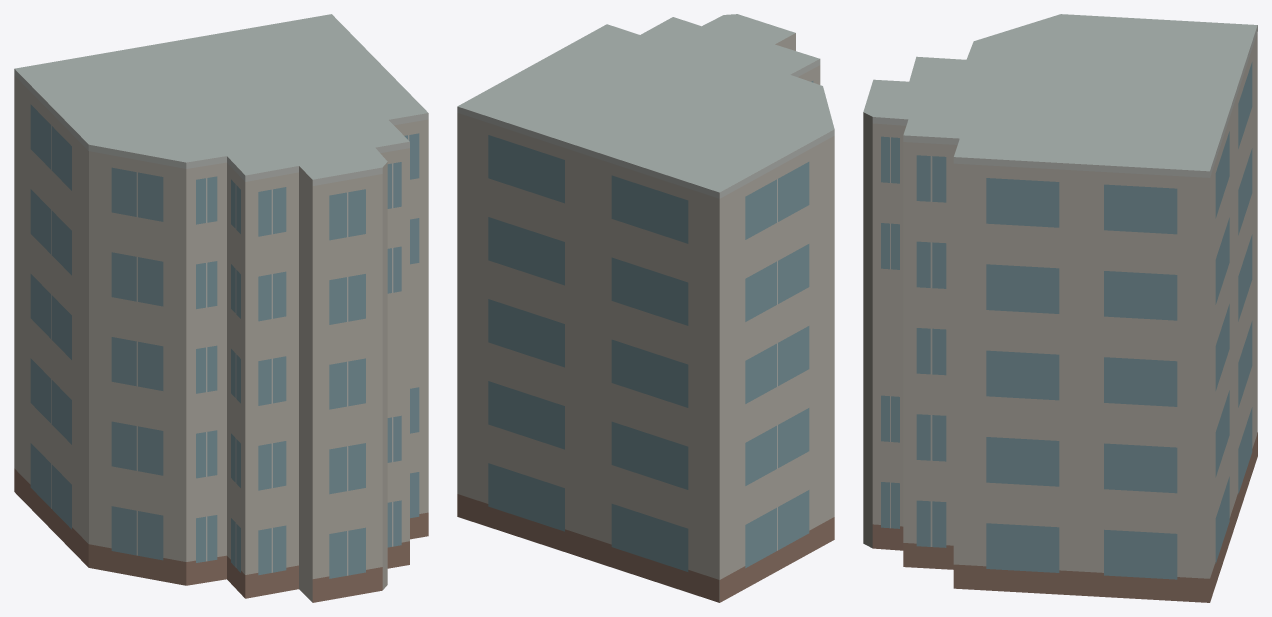
File: survey-upis-33005111.glb
3 views of the same model, side by side, from view 1: azimuth 30°, elevation 25°; view 2: azimuth 150°, elevation 25°; view 3: azimuth 270°, elevation 25° (orthographic). The views are drawn at different scales.
Parts seen in each view (by area): view 1: survey-upis-33005111.tmp; view 2: survey-upis-33005111.tmp; view 3: survey-upis-33005111.tmp.
Part boxes in pixels (x1=…): survey-upis-33005111.tmp: x1=14, y1=14, x2=428, y2=602; survey-upis-33005111.tmp: x1=457, y1=14, x2=834, y2=602; survey-upis-33005111.tmp: x1=863, y1=14, x2=1257, y2=602.
Size of the model in its own units: 12.52 by 16 by 13.26.
